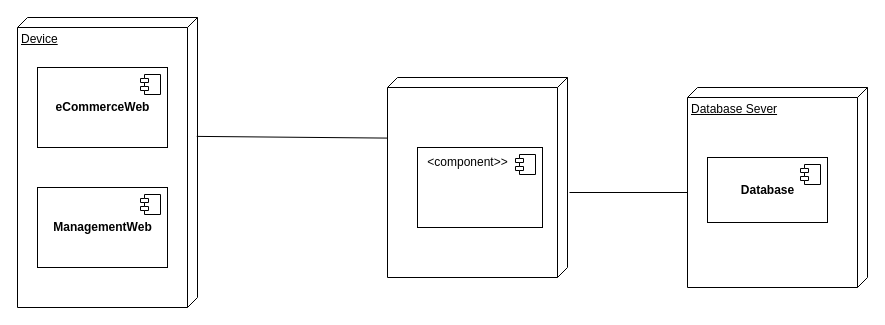
The diagram is 885 pixels wide and 325 high, and some of its shapes have lost their labels. Each missing label, with the box of its shape:
Application Sever: (386, 76, 568, 278)
Business: (416, 146, 542, 228)
